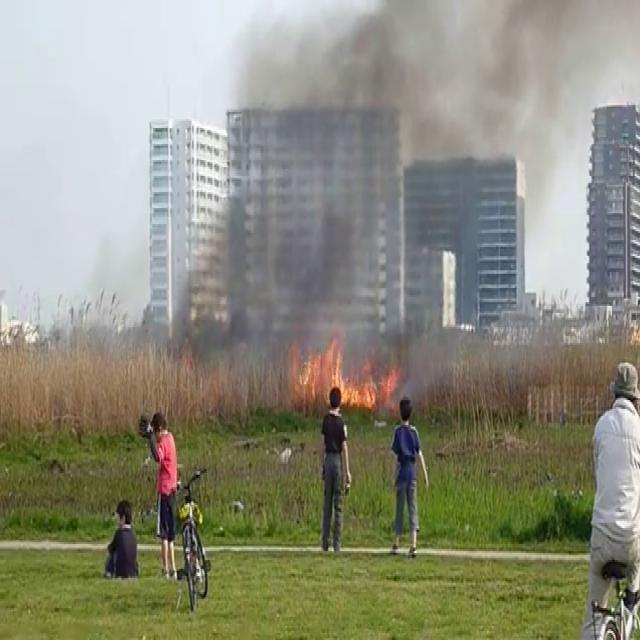Fire: (288, 332, 400, 414)
Smoke: (217, 0, 625, 366)
